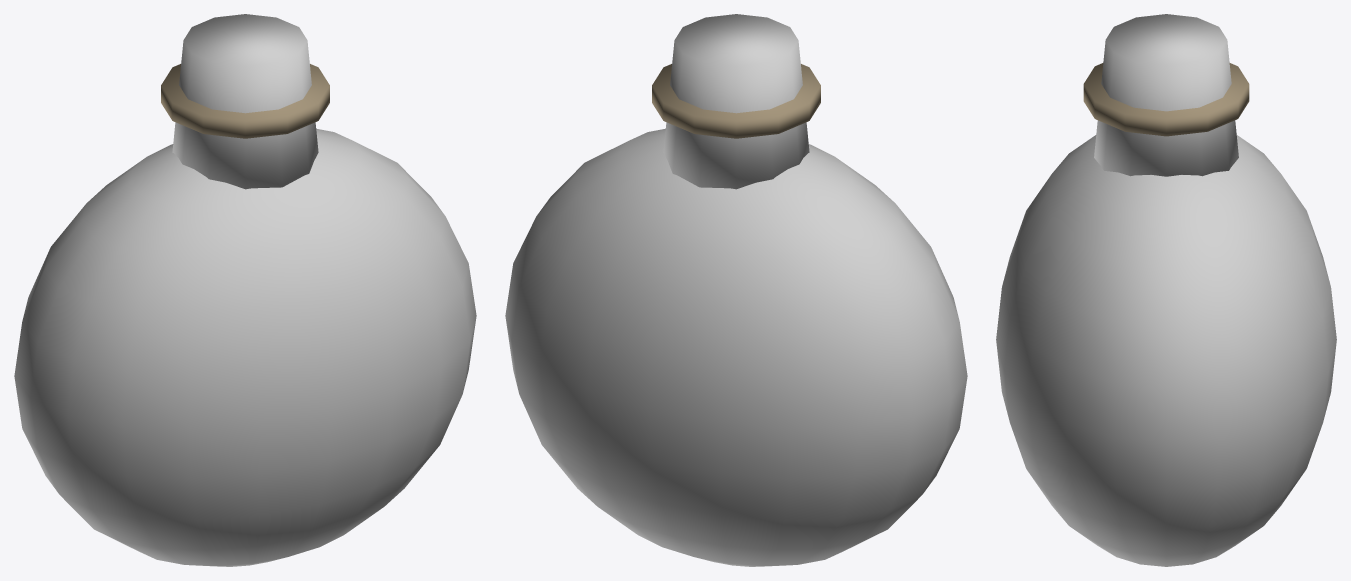
File: SM_Item_waterskin_empty.gltf
The picture shows the model from 3 angles, left to right: view 1: azimuth 30°, elevation 25°; view 2: azimuth 150°, elevation 25°; view 3: azimuth 270°, elevation 25°; orthographic projection.
Visible parts, largest first — view 1: SM_Item_waterskin_empty; view 2: SM_Item_waterskin_empty; view 3: SM_Item_waterskin_empty.
Part boxes in pixels (box(x1,y1,x2,y2)): SM_Item_waterskin_empty: box(14, 14, 476, 566); SM_Item_waterskin_empty: box(505, 14, 967, 566); SM_Item_waterskin_empty: box(996, 14, 1336, 566).
Size of the model in its own units: 0.2 by 0.228 by 0.14.
